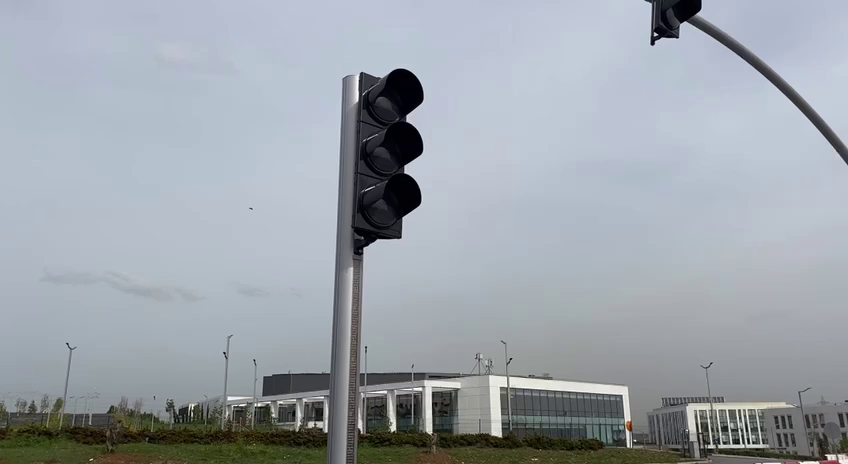trafficLight: (334, 64, 428, 248), (647, 1, 704, 47)
